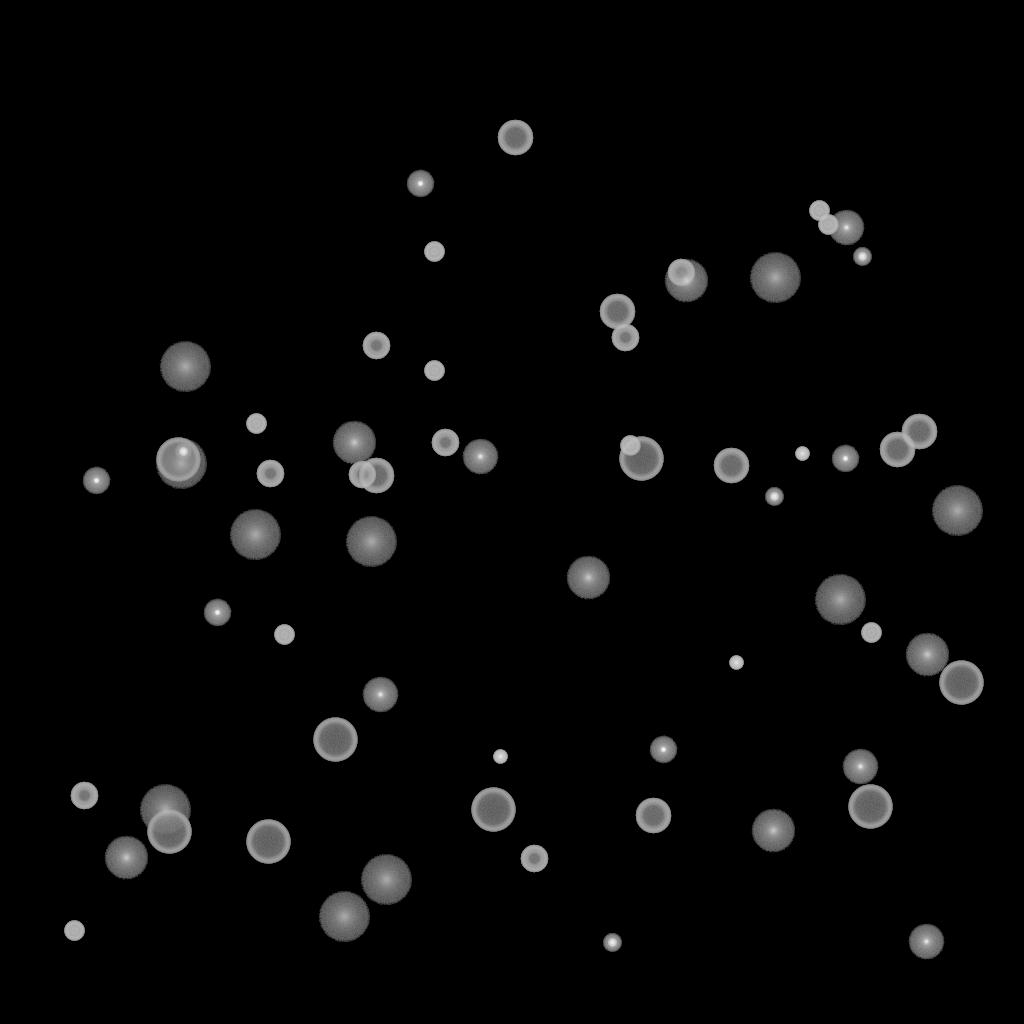depth:-10: (203, 599, 231, 627), (406, 170, 434, 198), (831, 445, 859, 473), (649, 736, 677, 764), (82, 467, 110, 495)
depth:-20: (853, 248, 871, 266), (174, 443, 192, 461), (603, 934, 621, 952), (765, 488, 783, 506)
depth:-30: (493, 750, 507, 764), (729, 656, 743, 670), (795, 447, 809, 461)
depth:-40: (64, 921, 84, 941), (861, 623, 881, 643), (809, 201, 829, 221), (424, 242, 444, 262), (620, 436, 640, 456), (818, 215, 838, 235), (274, 625, 294, 645), (424, 361, 444, 381), (246, 414, 266, 434)
depth:-50: (348, 461, 376, 489), (431, 429, 459, 457), (362, 332, 390, 360), (256, 460, 284, 488), (520, 845, 548, 873), (667, 259, 695, 287), (70, 782, 98, 810), (611, 324, 639, 352)
depth:-60: (599, 294, 635, 330), (901, 414, 937, 450), (635, 798, 671, 834), (497, 120, 533, 156), (879, 432, 915, 468), (713, 448, 749, 484), (358, 458, 394, 494)
depth:-70: (313, 718, 357, 762), (156, 438, 200, 482), (471, 788, 515, 832), (147, 810, 191, 854), (246, 820, 290, 864), (848, 785, 892, 829), (619, 437, 663, 481), (939, 661, 983, 705)
depth:0: (908, 924, 944, 960), (842, 749, 878, 785), (462, 439, 498, 475), (828, 210, 864, 246), (362, 677, 398, 713)
depth:10: (566, 556, 610, 600), (664, 259, 708, 303), (905, 633, 949, 677), (751, 809, 795, 853), (332, 421, 376, 465), (104, 836, 148, 880)
depth:20: (155, 439, 207, 489), (345, 517, 397, 567), (749, 253, 801, 303), (139, 785, 191, 835), (360, 855, 412, 905), (814, 575, 866, 625), (159, 342, 211, 392), (318, 892, 370, 942), (229, 510, 281, 560), (931, 486, 983, 536)
